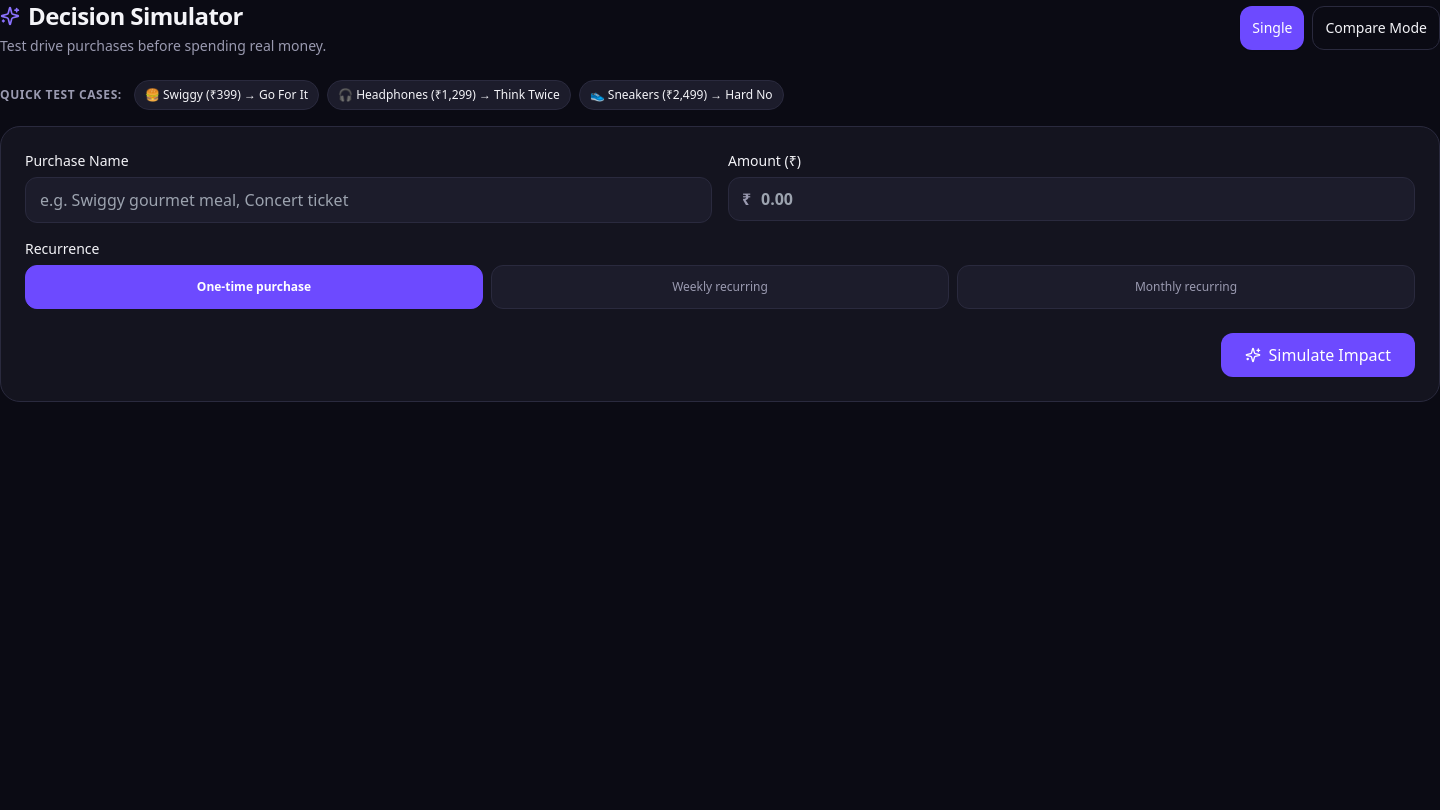
Test: Decision Simulator View › evaluates a medium expense (₹1,299 Headphones) as THINK TWICE via quick scenario
Click the button "🎧 Headphones (₹1,299) → Think Twice".
click(449, 95)  # box [327,80,571,110]
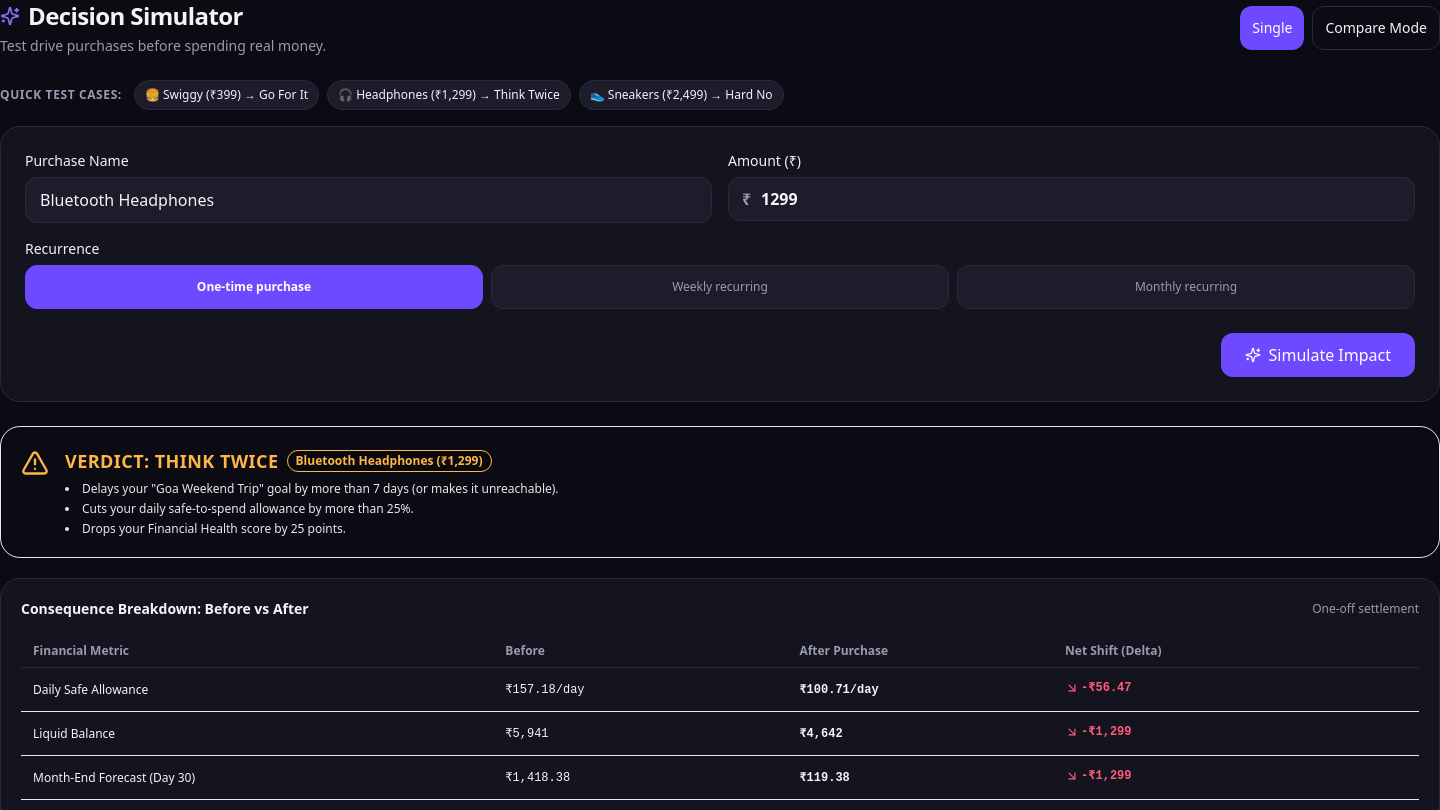
Check: the text "Verdict: THINK TWICE" is shown, box [65,447,278,475]
